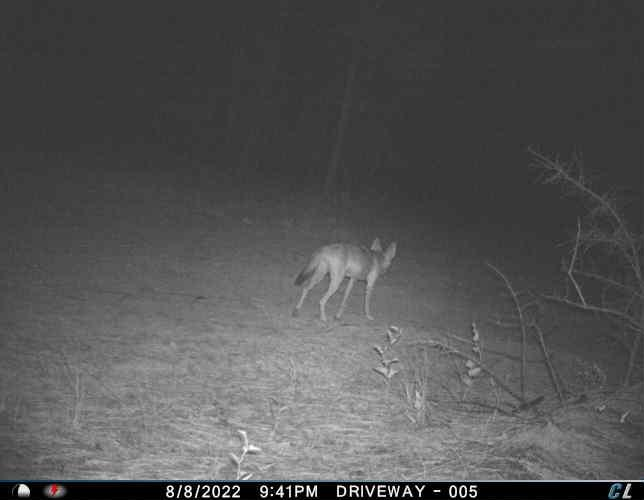Coyote: (290, 234, 399, 325)
